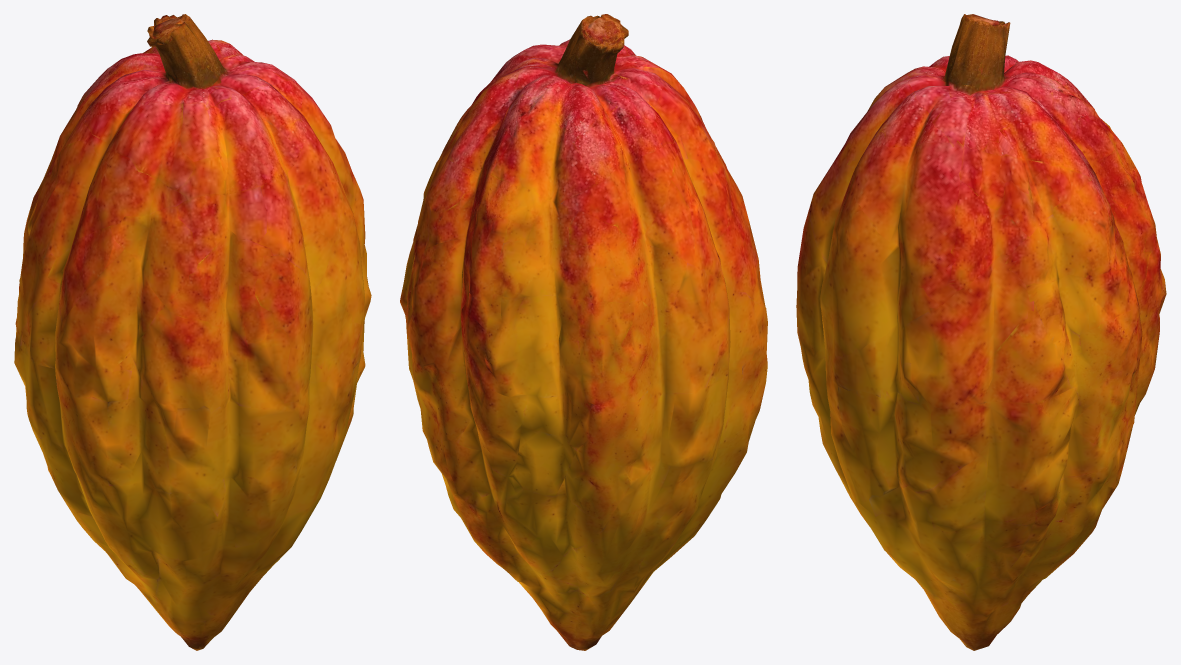
Rendered from cacao-pod.glb.
3 renders of one model, left to right at view 1: azimuth 30°, elevation 25°; view 2: azimuth 150°, elevation 25°; view 3: azimuth 270°, elevation 25°, orthographic.
Size of the model in its own units: 0.9738 by 1.9 by 1.02.
Materials: 1 (1 with a texture image).
